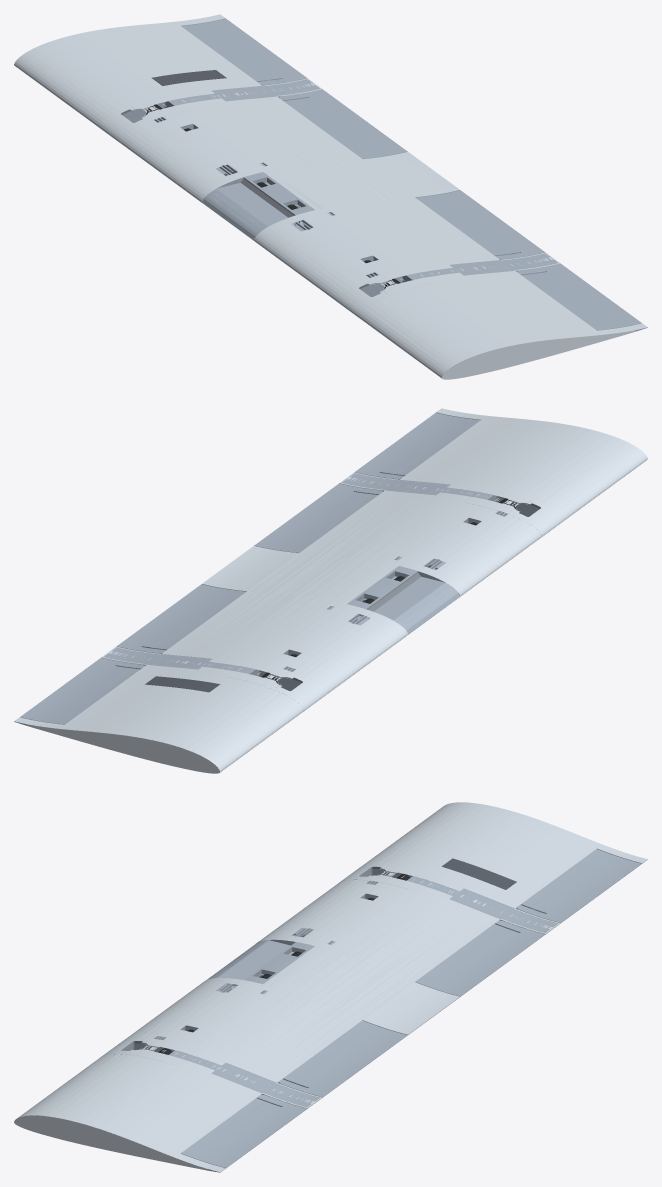
Rendered from wing.glb.
3 views of the same model, one above another, from view 1: azimuth 30°, elevation 25°; view 2: azimuth 150°, elevation 25°; view 3: azimuth 330°, elevation 25° (orthographic).
Parts seen in each view (by area): view 1: WNG-003, WNG-001, WNG-011-L, WNG-011-R, WNG-012-R, WNG-012-L, WNG-020; view 2: WNG-003, WNG-001, WNG-011-R, WNG-011-L, WNG-012-L, WNG-012-R, WNG-020; view 3: WNG-003, WNG-001, WNG-011-R, WNG-011-L, WNG-012-R, WNG-012-L, WNG-020.
Boxes of the visible parts, x1,y1,x2,y2 form: WNG-003: (14, 14, 647, 379); WNG-001: (122, 18, 647, 331); WNG-011-L: (416, 190, 545, 259); WNG-011-R: (279, 89, 407, 158); WNG-012-R: (181, 19, 306, 85); WNG-012-L: (517, 263, 641, 330); WNG-020: (152, 70, 226, 85); WNG-003: (14, 408, 647, 773); WNG-001: (14, 412, 539, 725); WNG-011-R: (116, 584, 245, 653); WNG-011-L: (254, 483, 382, 552); WNG-012-L: (355, 413, 480, 479); WNG-012-R: (20, 657, 144, 724); WNG-020: (145, 676, 220, 692); WNG-003: (14, 802, 647, 1172); WNG-001: (31, 849, 647, 1172); WNG-011-R: (415, 920, 545, 996); WNG-011-L: (279, 1020, 407, 1097); WNG-012-R: (517, 849, 641, 922); WNG-012-L: (181, 1095, 306, 1168); WNG-020: (442, 858, 516, 889).
Size of the model in its own units: 0.3203 by 0.032 by 1.15.
